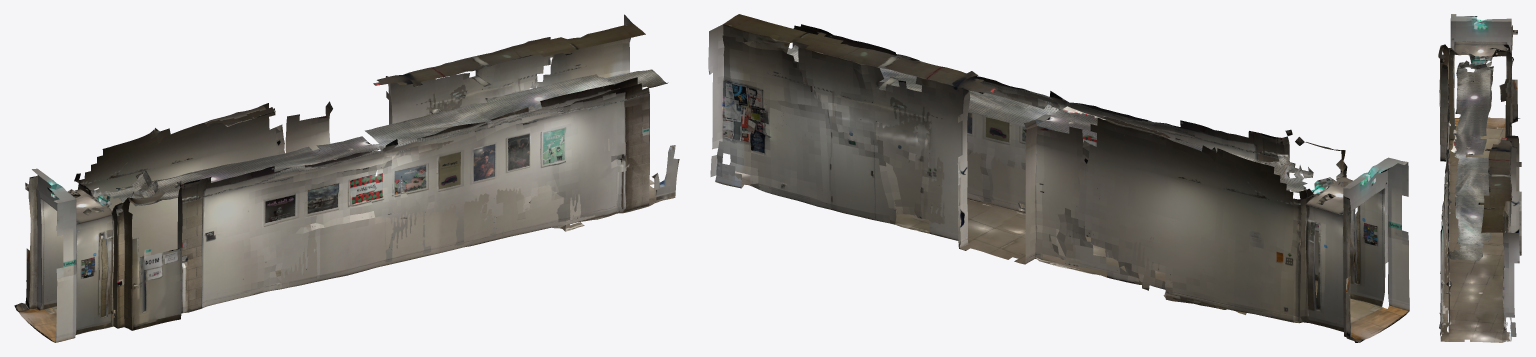
The model's file is 1_corridor_4-IM.fbx.
The picture shows the model from 3 angles, left to right: view 1: azimuth 30°, elevation 25°; view 2: azimuth 150°, elevation 25°; view 3: azimuth 270°, elevation 25°; orthographic projection. The views are drawn at different scales.
Parts seen in each view (by area): view 1: 1_corridor_4-IM; view 2: 1_corridor_4-IM; view 3: 1_corridor_4-IM.
Part boxes in pixels (box(x1,y1,x2,y2)): 1_corridor_4-IM: box(14, 14, 679, 342); 1_corridor_4-IM: box(708, 14, 1409, 342); 1_corridor_4-IM: box(1438, 14, 1521, 342).
Bounding box in the file's own units: 1398 × 339 × 218.
1 material, 1 textured.
